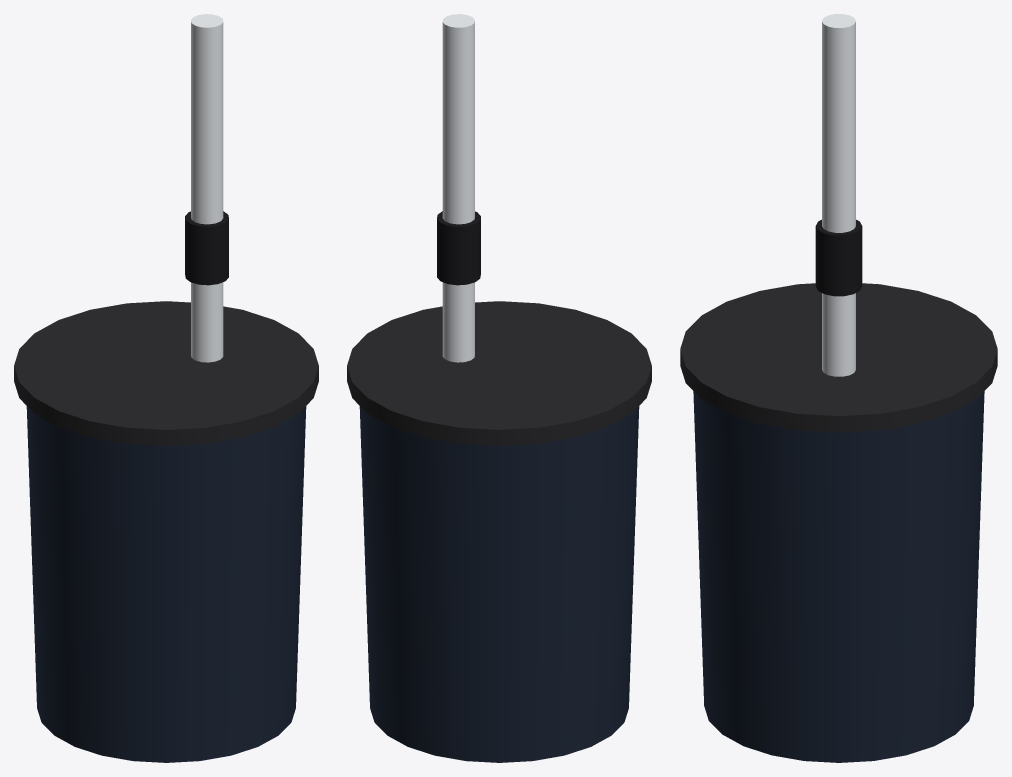
The model's file is sump-pump-basin.glb.
The picture shows the model from 3 angles, left to right: view 1: azimuth 30°, elevation 25°; view 2: azimuth 150°, elevation 25°; view 3: azimuth 270°, elevation 25°; orthographic projection. The views are drawn at different scales.
Parts seen in each view (by area): view 1: plumbing-equipment-sump-pump; view 2: plumbing-equipment-sump-pump; view 3: plumbing-equipment-sump-pump.
Part boxes in pixels (x1,y1,x2,y2): plumbing-equipment-sump-pump: (14,14,318,762); plumbing-equipment-sump-pump: (347,14,651,762); plumbing-equipment-sump-pump: (680,14,997,762).
Size of the model in its own units: 0.52 by 1.27 by 0.52.
